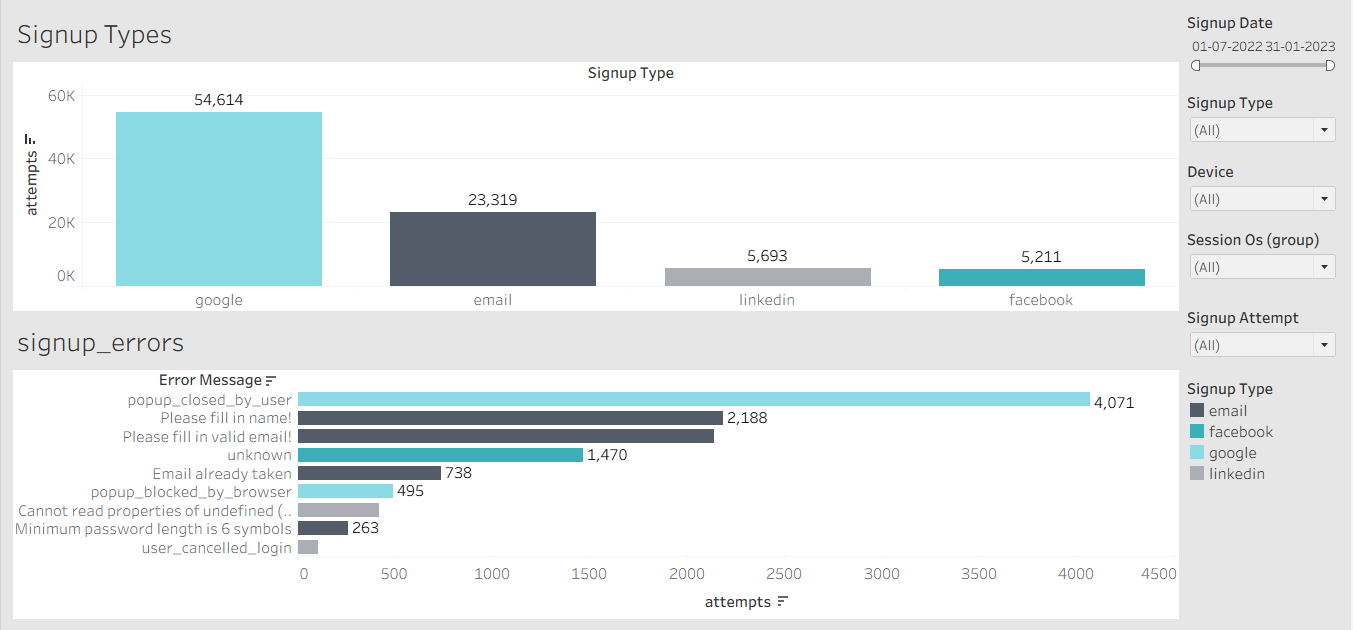

What the dashboard file says about the page in this screenshot:
{"tool":"tableau","page":{"name":"Dashboard 2","canvas":[1350,631],"ordinal":1},"visuals":[{"type":"worksheet","title":"Signup Types","mark":"Bar","rows":["Calculation_237846361151590402"],"cols":["signup_type"],"box":[8,8,1174,307.5]},{"type":"filter","title":"Signup Types","param":"[federated.0os5h601f2ipod0zopygu1gzgrjf].[none:signup_date:qk]","box":[1182,8,160,80]},{"type":"filter","title":"Signup Types","param":"[federated.0os5h601f2ipod0zopygu1gzgrjf].[none:signup_type:nk]","box":[1182,88,160,69]},{"type":"filter","title":"Signup Types","param":"[federated.0os5h601f2ipod0zopygu1gzgrjf].[none:device:nk]","box":[1182,157,160,68]},{"type":"filter","title":"Signup Types","param":"[federated.0os5h601f2ipod0zopygu1gzgrjf].[Session Os (group)]","box":[1182,225,160,78]},{"type":"filter","title":"Signup Types","param":"[federated.0os5h601f2ipod0zopygu1gzgrjf].[none:signup_attempt:nk]","box":[1182,303,160,71]},{"type":"worksheet","title":"signup_errors","mark":"Automatic","rows":["error_message"],"cols":["Calculation_237846361151590402"],"box":[8,315.5,1174,307.5]},{"type":"legend","title":"signup_errors","param":"[federated.0os5h601f2ipod0zopygu1gzgrjf].[none:signup_type:nk]","box":[1182,374,160,114]}]}

Visuals, with their boxes in screenshot pixels (x1, y1, x2, y2), scaled from the page's 1350x631 canvas onto the 1353x630 screenshot:
"Signup Types" worksheet (Bar marks): [8,8,1185,315]
"Signup Types" filter: [1185,8,1345,88]
"Signup Types" filter: [1185,88,1345,157]
"Signup Types" filter: [1185,157,1345,225]
"Signup Types" filter: [1185,225,1345,303]
"Signup Types" filter: [1185,303,1345,373]
"signup_errors" worksheet: [8,315,1185,622]
"signup_errors" legend: [1185,373,1345,487]
